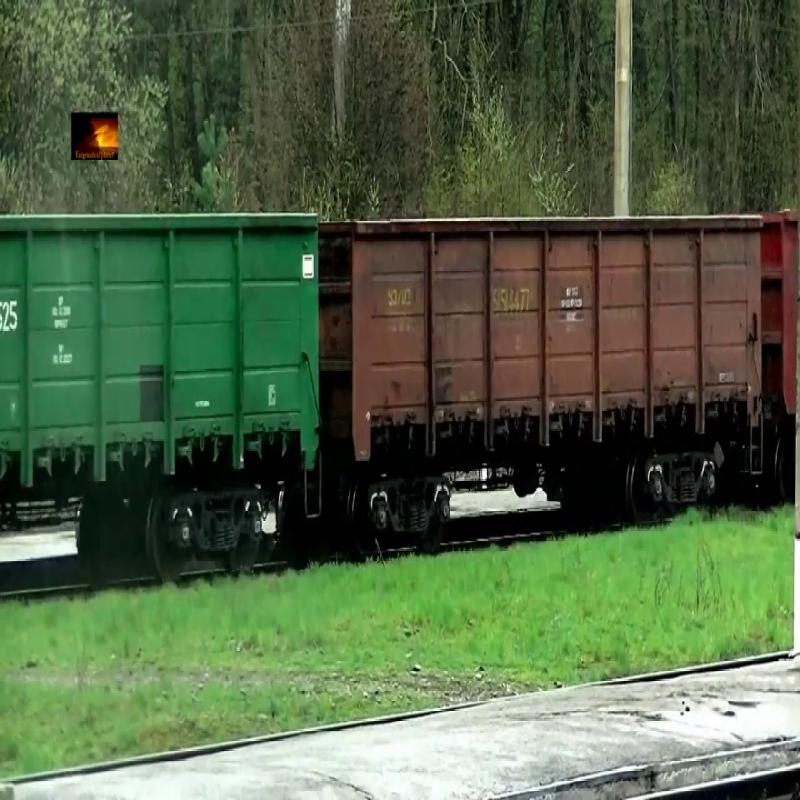train: (321, 218, 764, 467), (1, 214, 319, 498), (763, 216, 798, 426)
